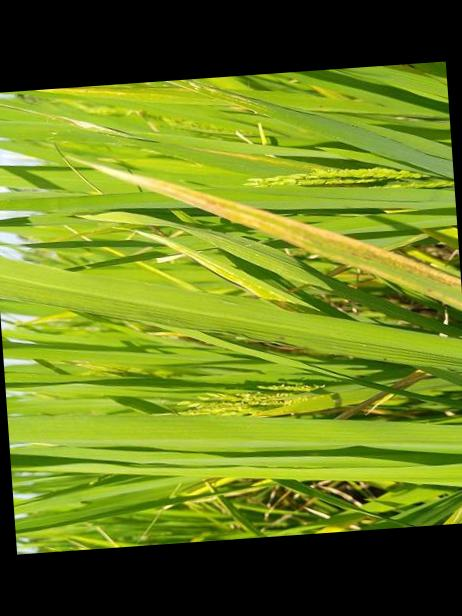Leaf Streak: (81, 163, 462, 311)
